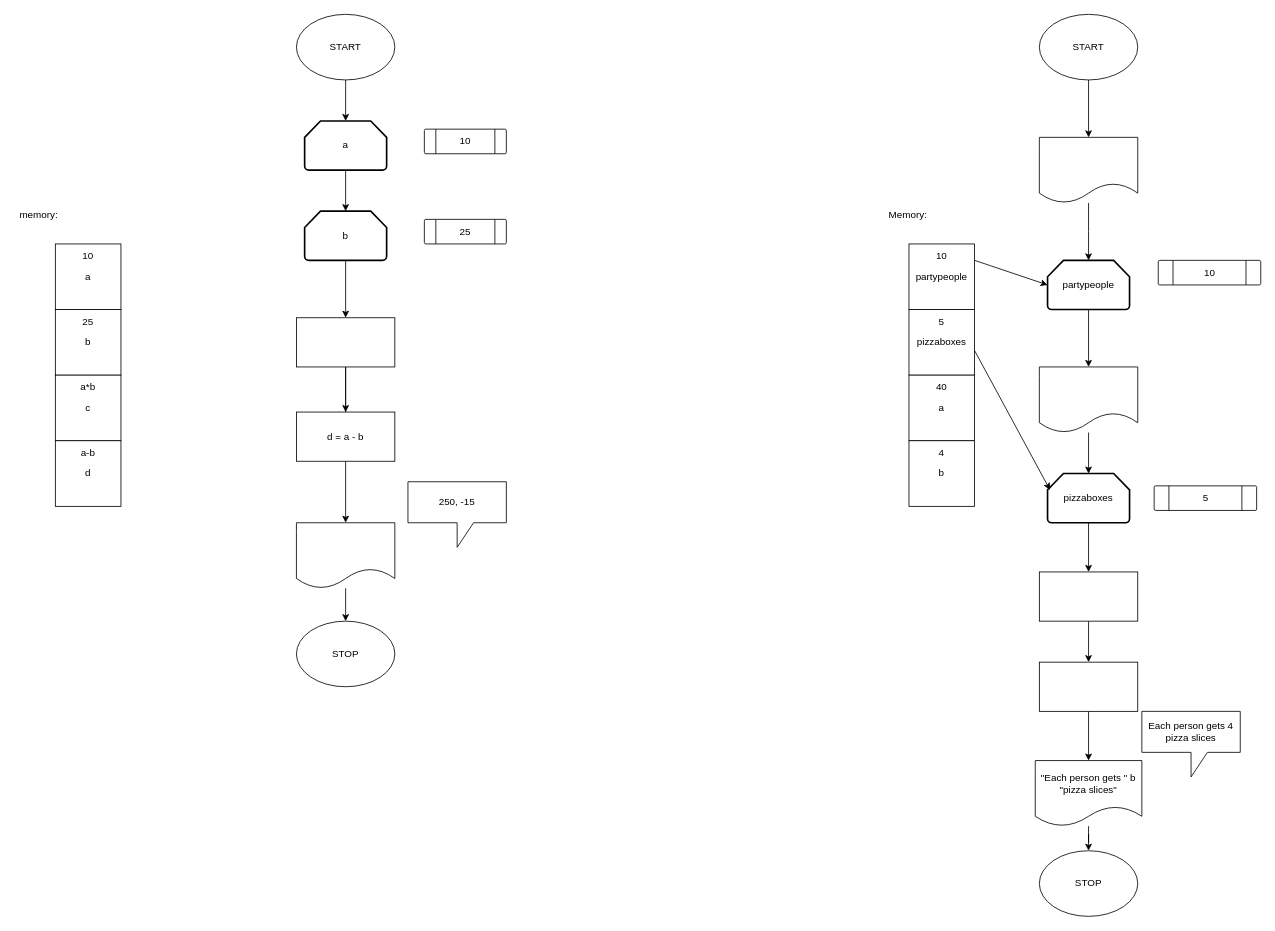
The diagram is 1275 pixels wide and 931 high, and some of its shapes have lost their labels. Here are the shapes that lost their labels. From the top down, the centre of each, then its label:
point 1088,170: "How many people are at the party?"
point 345,342: c = a * b
point 1088,399: "How many pizza pies are at the party?"
point 345,555: c, d
point 1088,596: a = pizzaboxes * 8
point 1088,686: b = a / partypeople
